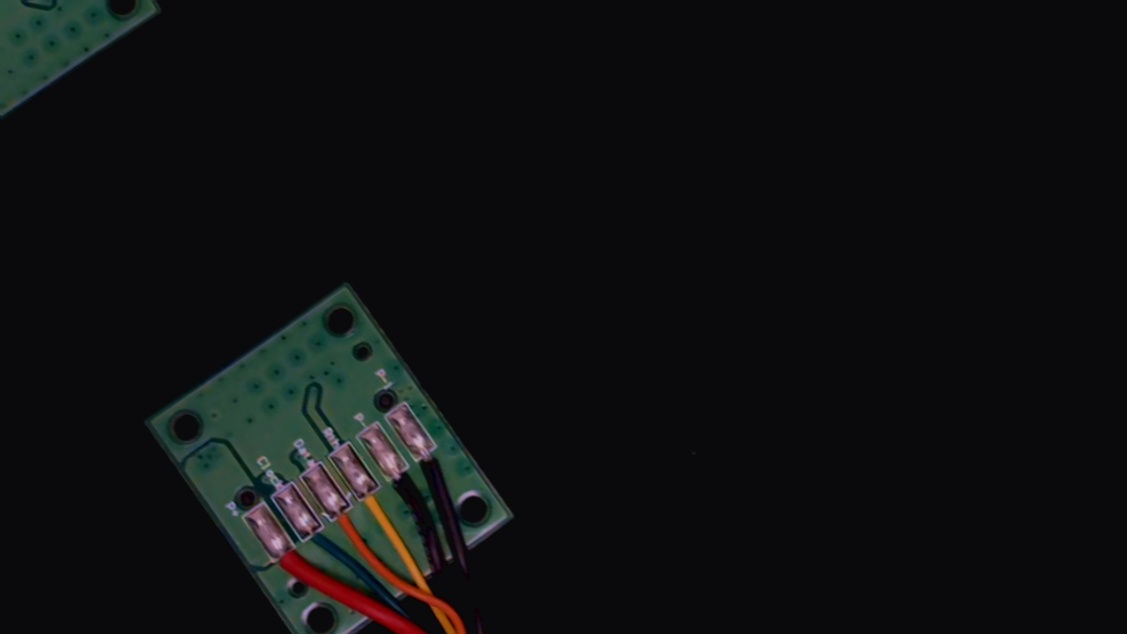Black: (380, 457, 431, 514)
Black1: (408, 436, 459, 494)
Green: (293, 516, 344, 573)
Orange: (324, 497, 373, 554)
Red: (263, 536, 318, 596)
Yellow: (351, 477, 405, 537)
